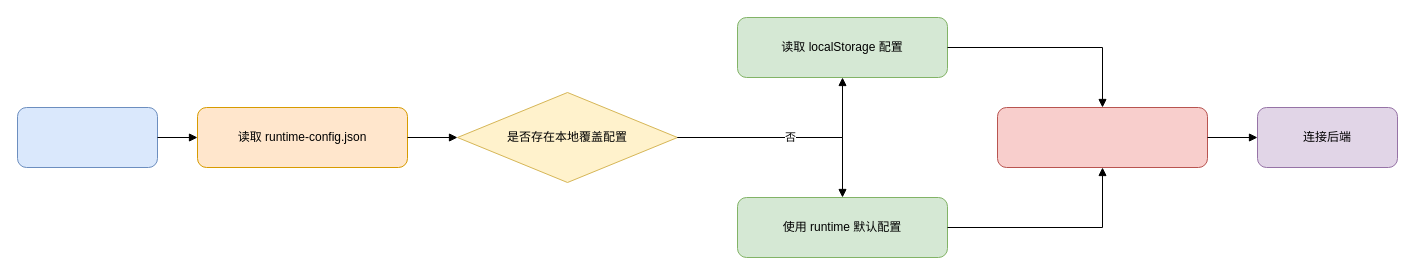
Image size: 1415x275. Some labels were removed from this diagram. The centre of each missing label's shape, as x and y in pixels:
"初始化 API/WS 客户端" goes at point 1102,137.
"前端启动" goes at point 87,137.
